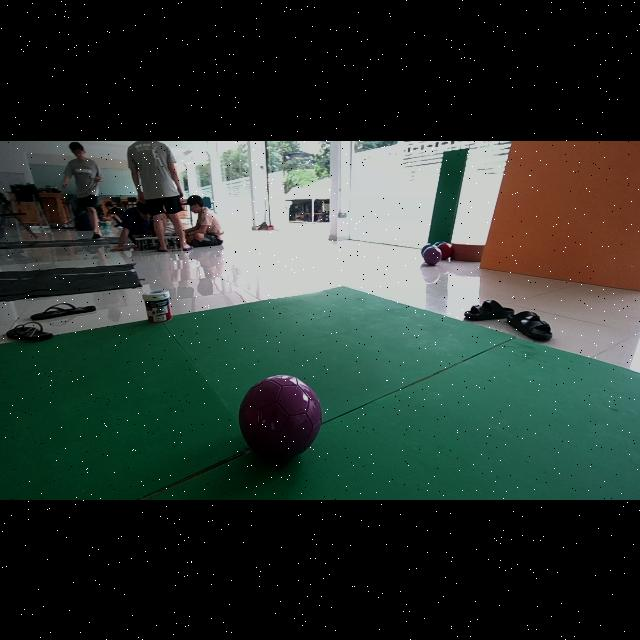B: (421, 243, 434, 255), (434, 240, 445, 246)
P: (239, 374, 322, 459), (423, 244, 441, 264)
R: (437, 242, 453, 259)
